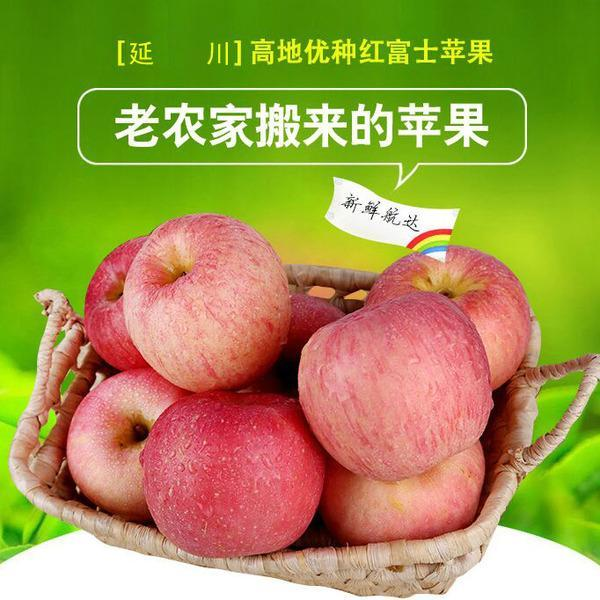apple: (299, 295, 492, 479), (140, 385, 324, 555), (121, 212, 293, 392), (365, 246, 530, 390), (318, 438, 487, 544), (69, 370, 179, 522), (82, 237, 150, 371)
